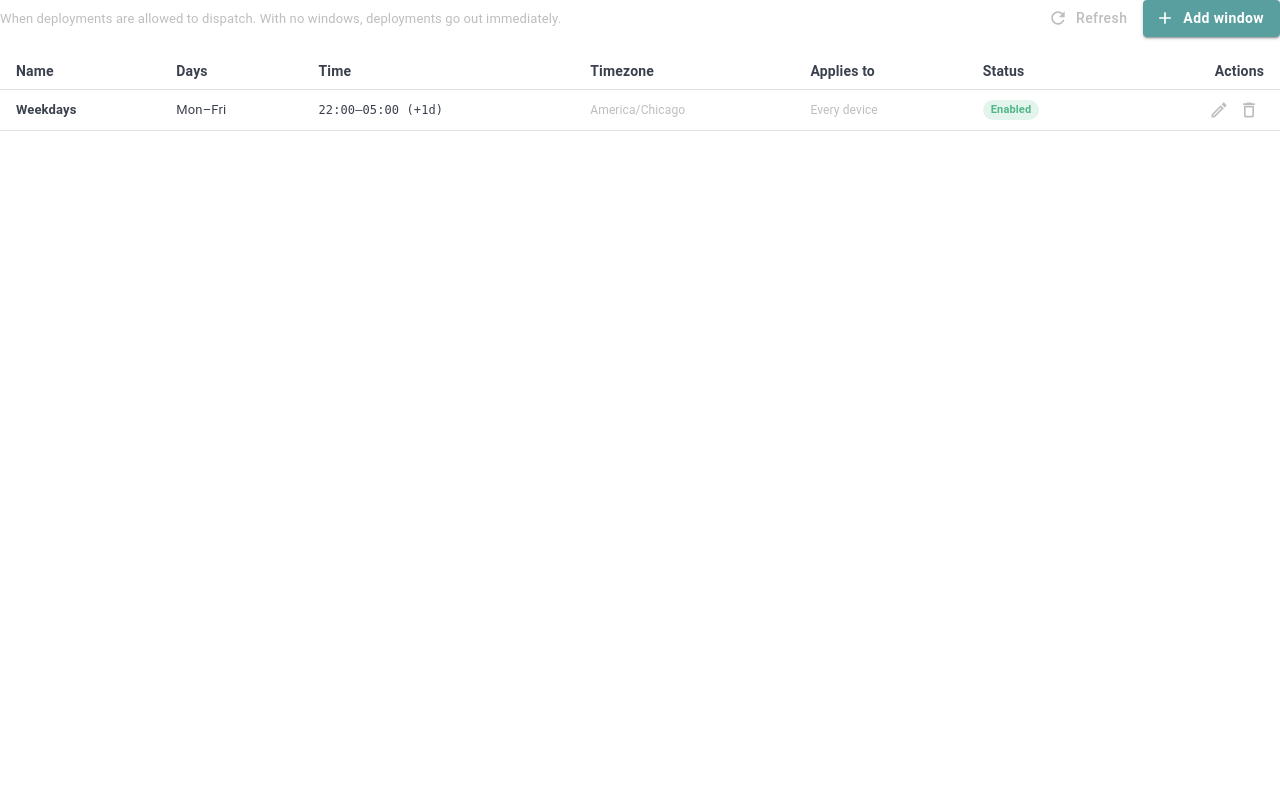
Test: MaintenanceWindowsPanel — borrar ventanas › 🔴 borrar la ÚLTIMA activa avisa de que se quita la restricción; cancelar no borra
The width and height of the screenshot is (1280, 800).
Click the 4th button: (1249, 110) [1234,96,1264,124]
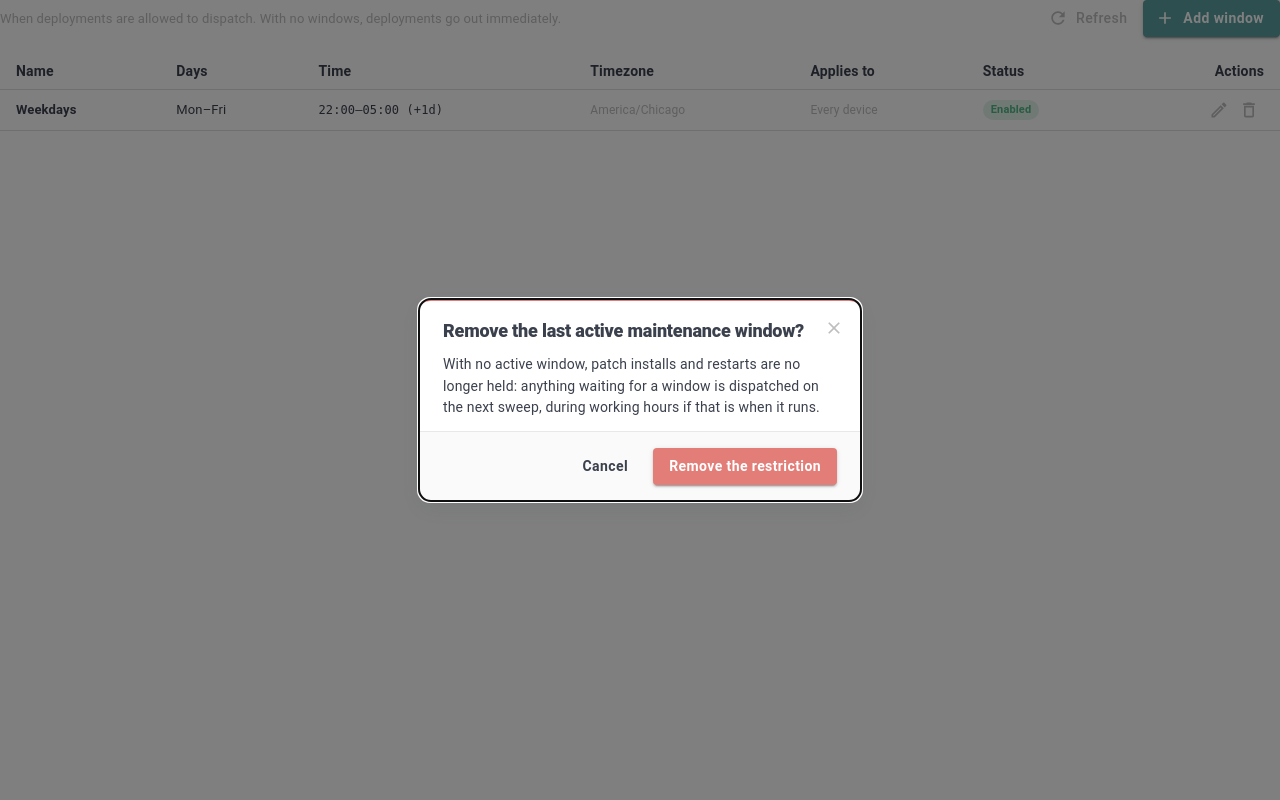
expect the text "Remove the last active maintenance window?" is shown: met, box [443,317,821,346]
Click the button "Cancel": (605, 466) [573,448,637,485]
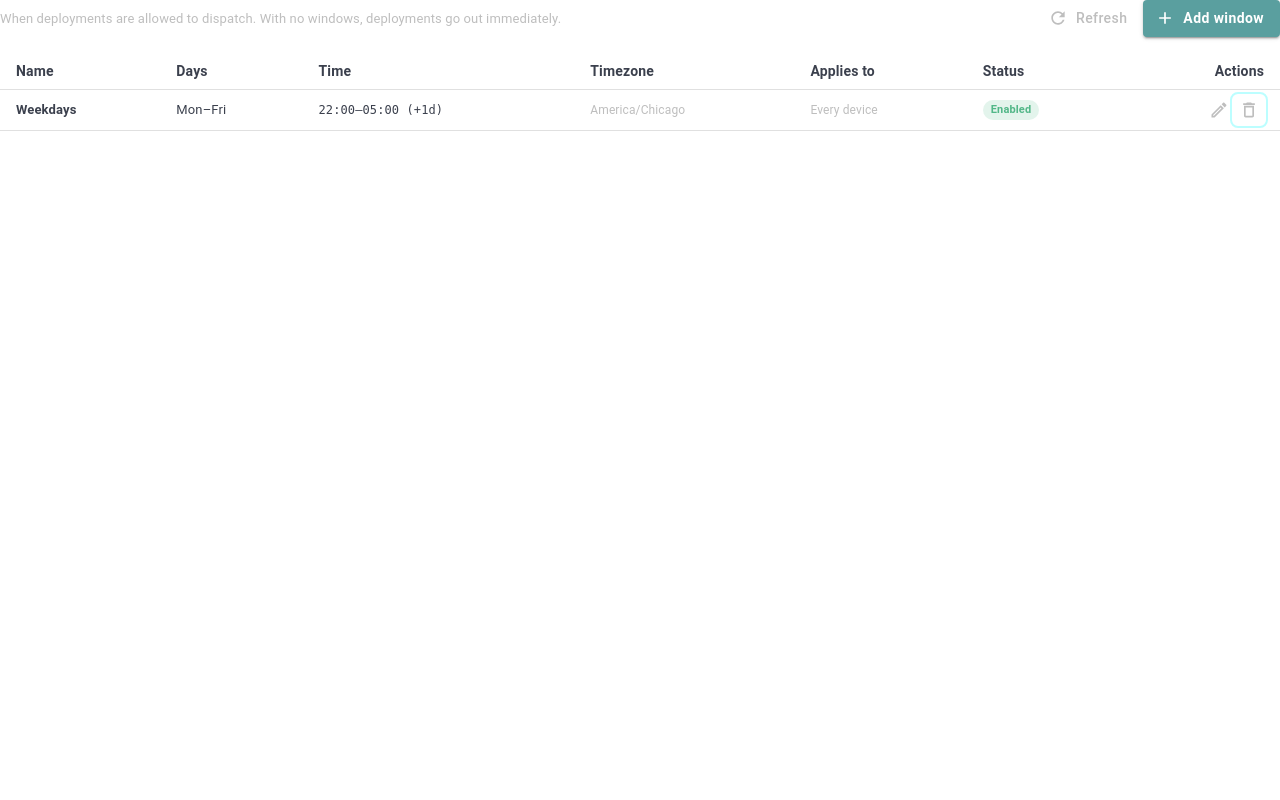
expect the dialog is gone: met
